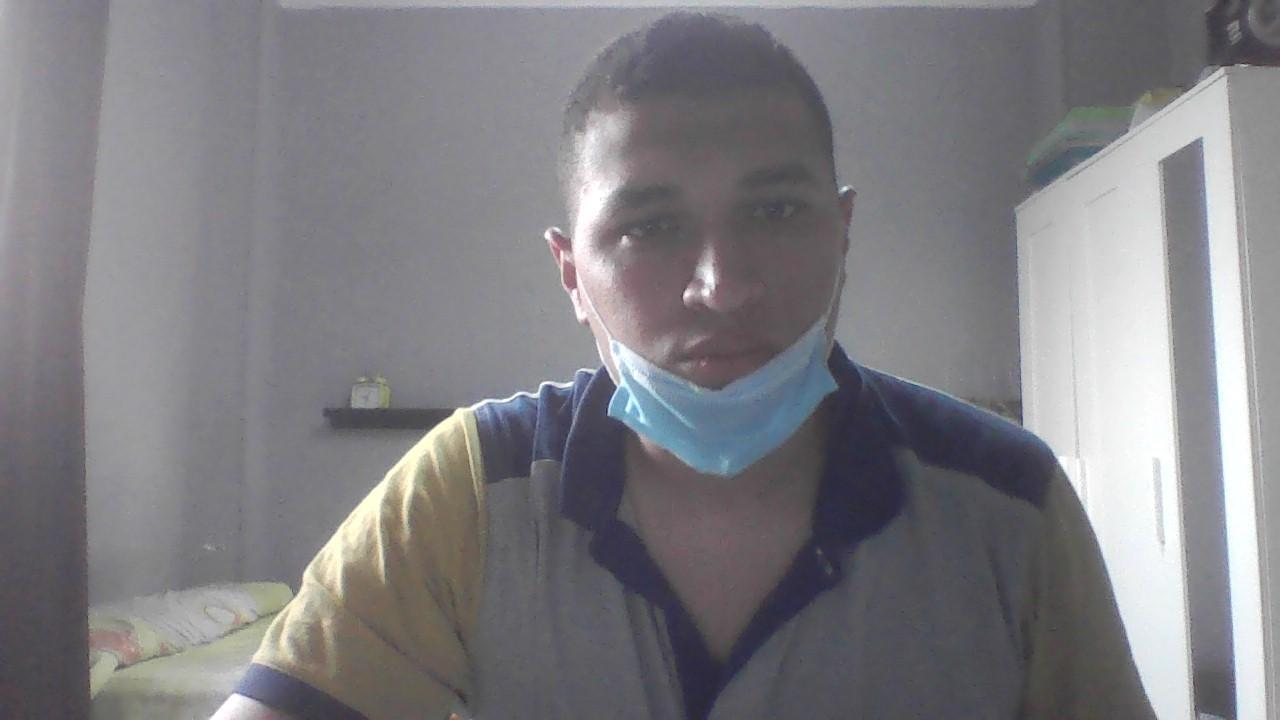mask_weared_incorrect: (574, 70, 865, 474)
